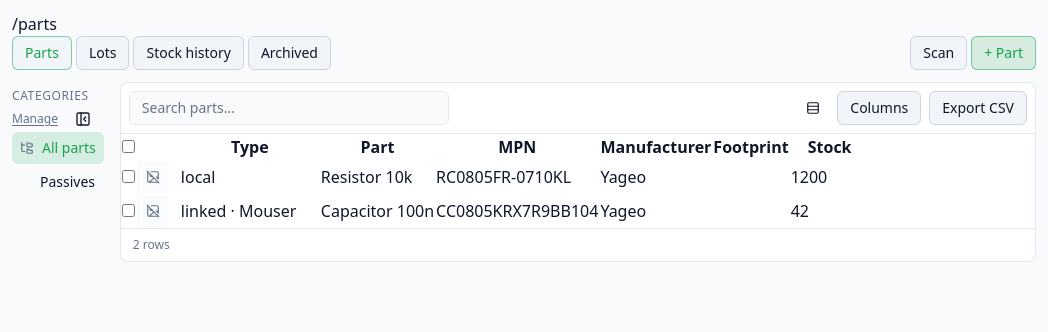
Test: parts list preview pane › paints the preview from the list row before the part fetch resolves
Click the text "Capacitor 100n" at coordinates (495, 211), box x1=121 y1=194 x2=870 y2=228
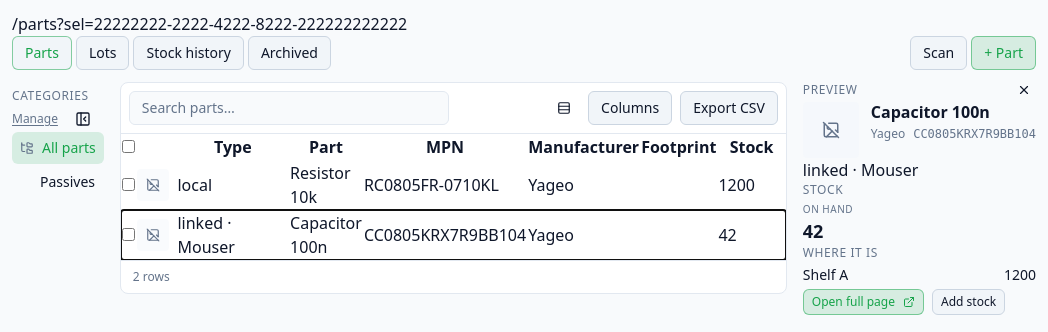
expect the heading "Capacitor 100n" is shown: met, box x1=871 y1=101 x2=990 y2=123
expect the element with test id "part-preview-pane" shows "CC0805KRX7R9BB104": met, box x1=913 y1=127 x2=1036 y2=141
expect the element with test id "part-preview-pane" shows "Yageo": met, box x1=871 y1=125 x2=905 y2=142
